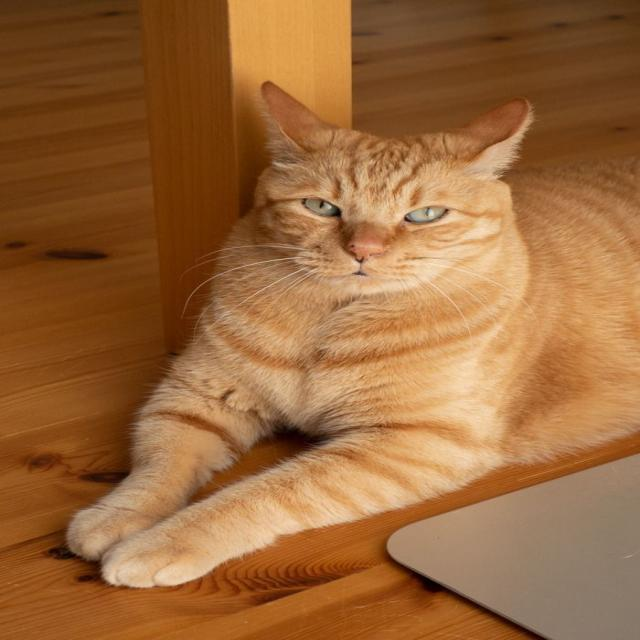sarman: (42, 80, 640, 638)
